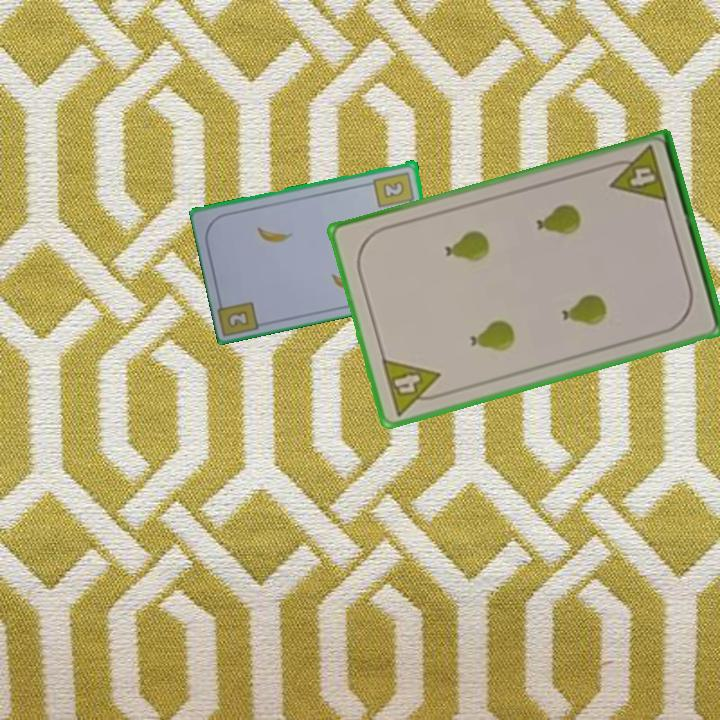2b: (370, 168, 417, 210), (224, 307, 252, 331)
4p: (378, 355, 448, 419), (602, 142, 671, 206)
